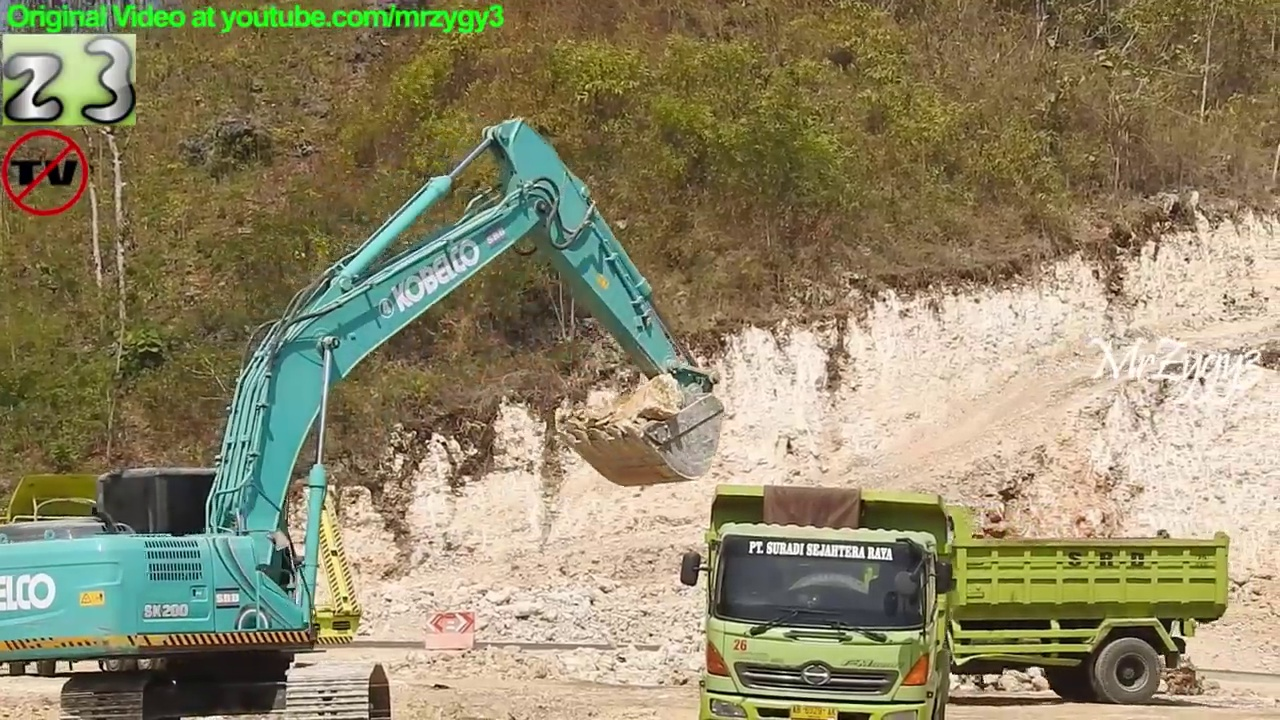excavator: (1, 107, 728, 720)
truck: (774, 486, 1236, 709), (1, 465, 365, 681), (681, 476, 958, 720)
